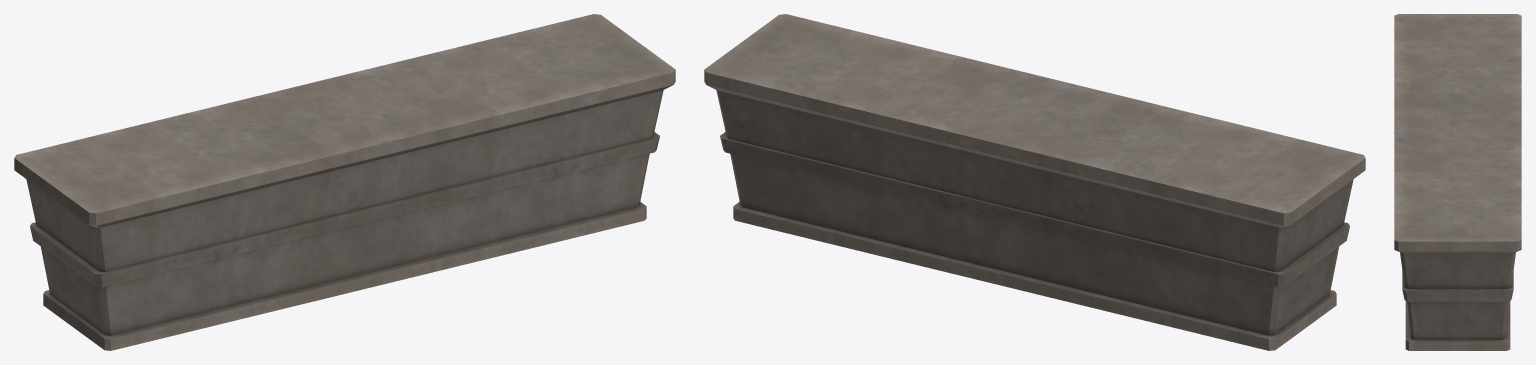
Rendered from sb_obj_outdoor009_AncientTemple_WallTopA.fbx.
3 views of the same model, side by side, from view 1: azimuth 30°, elevation 25°; view 2: azimuth 150°, elevation 25°; view 3: azimuth 270°, elevation 25° (orthographic). The views are drawn at different scales.
Parts seen in each view (by area): view 1: sb_obj_outdoor009_AncientTemple_WallTopA; view 2: sb_obj_outdoor009_AncientTemple_WallTopA; view 3: sb_obj_outdoor009_AncientTemple_WallTopA.
Part boxes in pixels (box(x1,y1,x2,y2)): sb_obj_outdoor009_AncientTemple_WallTopA: box(14, 14, 675, 350); sb_obj_outdoor009_AncientTemple_WallTopA: box(704, 14, 1365, 350); sb_obj_outdoor009_AncientTemple_WallTopA: box(1394, 14, 1521, 350).
Bounding box in the file's own units: 8.23 × 1.98 × 1.94.
